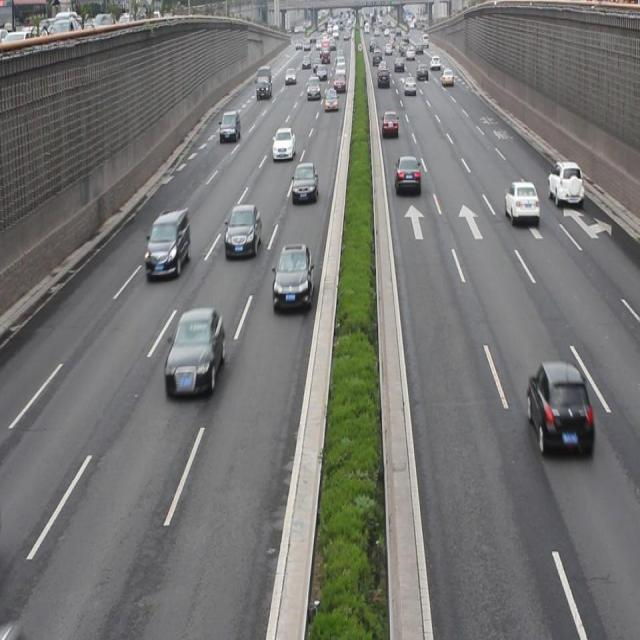car: (526, 358, 592, 459), (163, 306, 226, 397), (144, 207, 190, 277), (272, 241, 313, 310), (223, 202, 261, 257), (504, 176, 540, 226), (547, 158, 583, 208), (394, 153, 420, 197), (292, 161, 318, 202), (272, 125, 295, 162), (219, 108, 242, 142), (381, 108, 399, 140)
